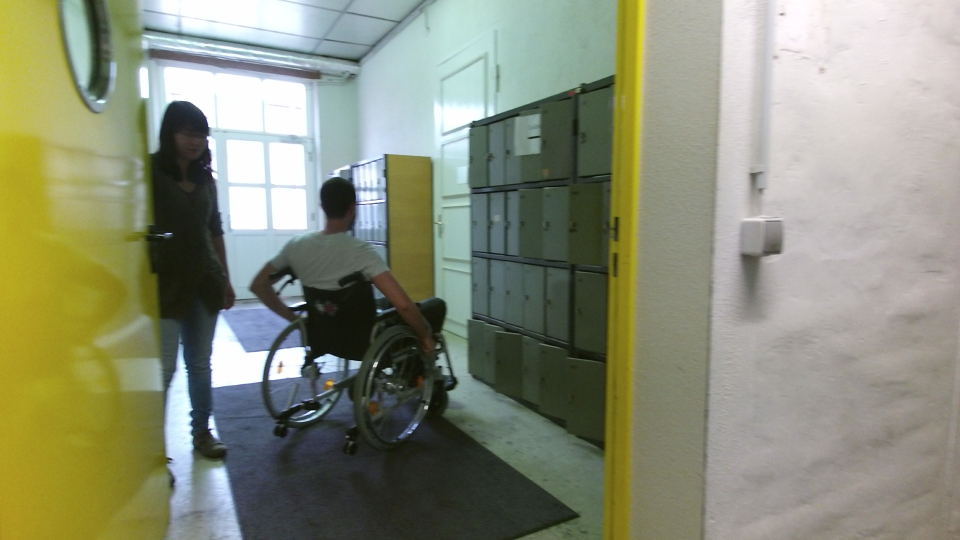wheelchair: (244, 172, 465, 457)
